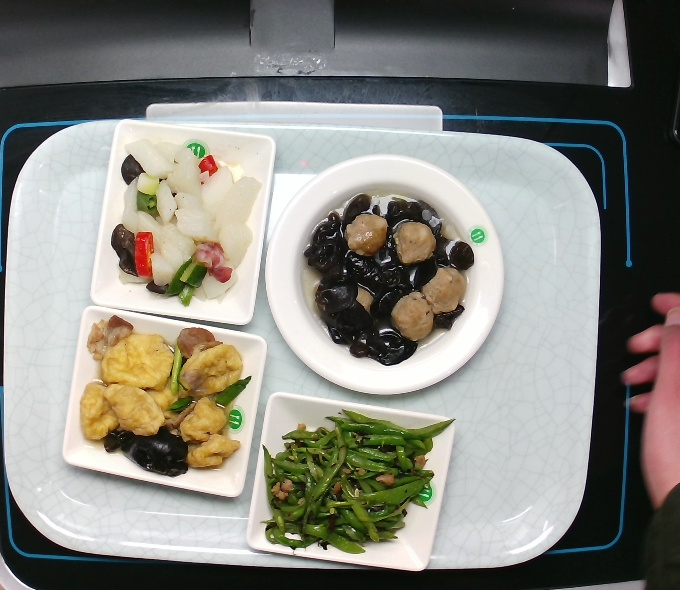wcq-MuErWanZi: (287, 179, 481, 374)
wcq-ShanYao: (102, 132, 268, 315)
wcq-SiJiDouChaoRou: (257, 404, 462, 558)
wcq-YouPaoRouPian: (74, 312, 258, 481)
